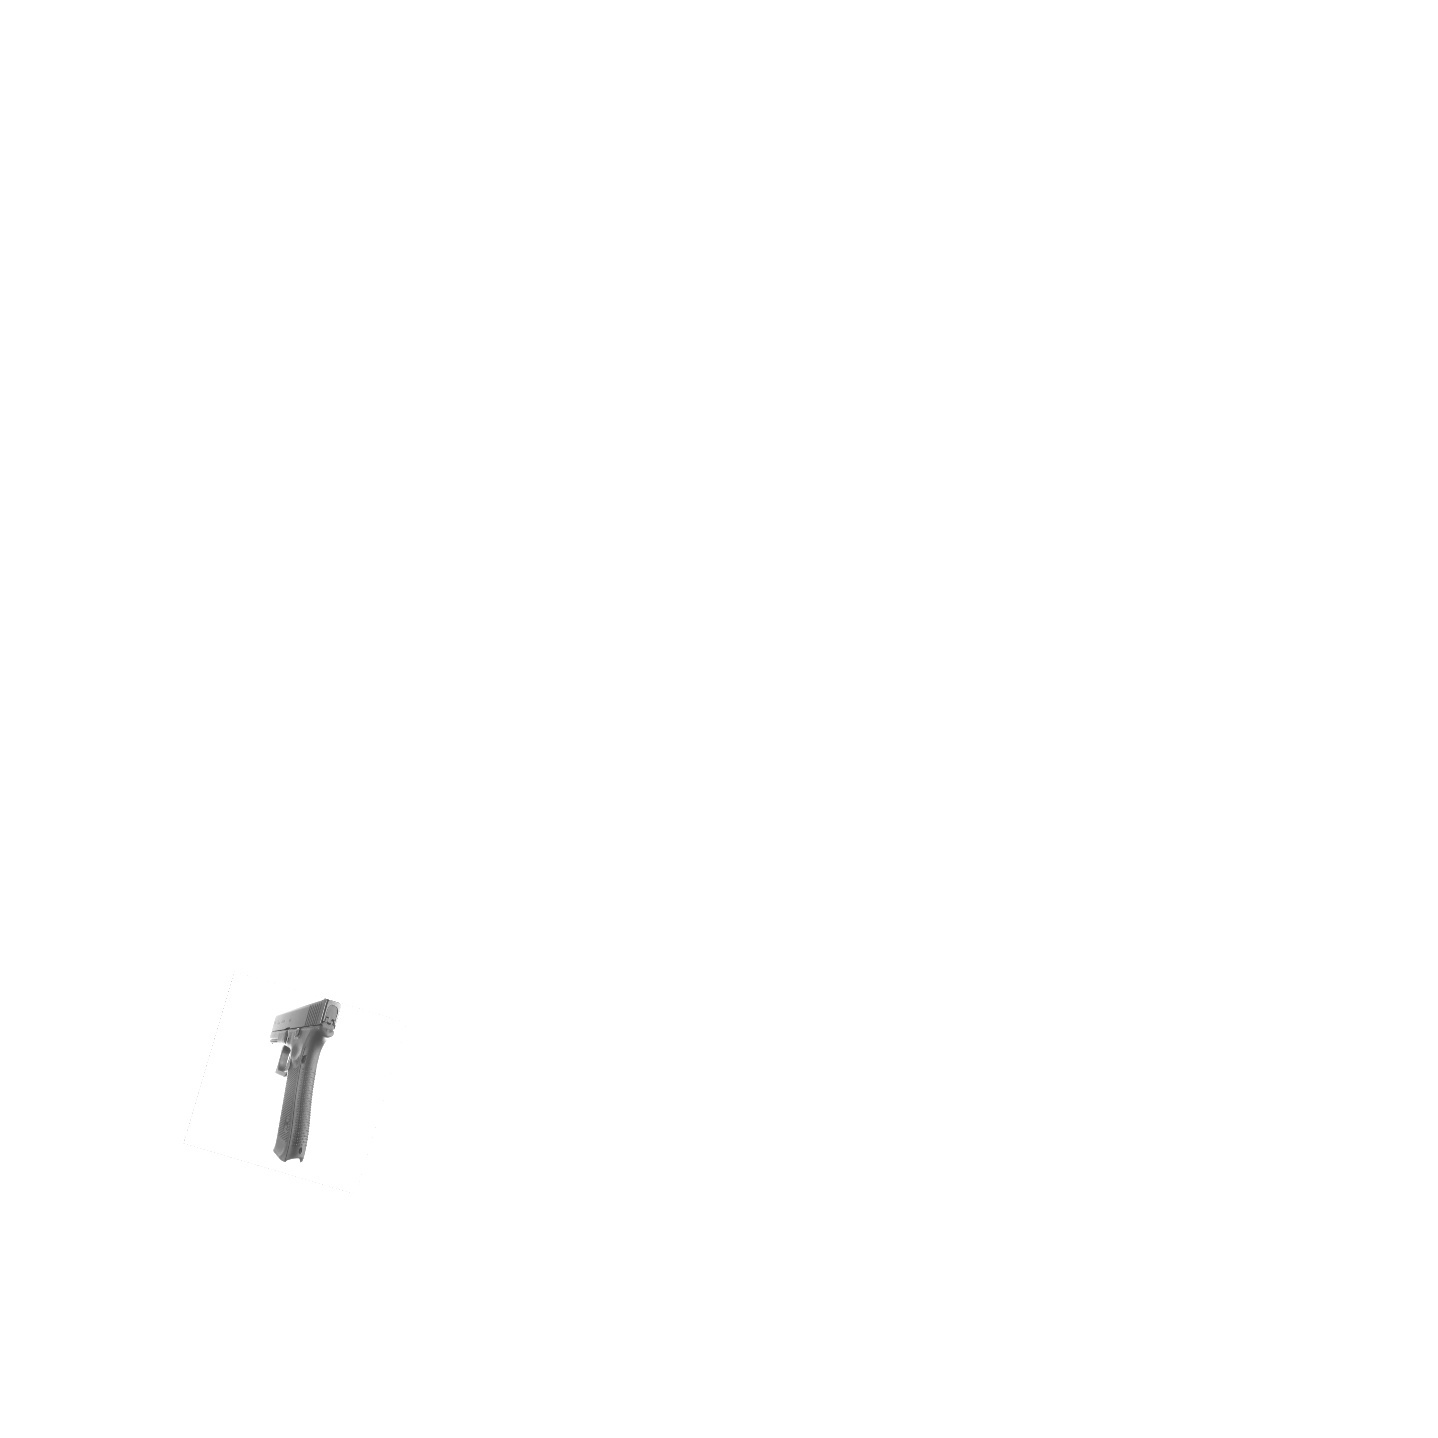gun: (263, 998, 346, 1169)
